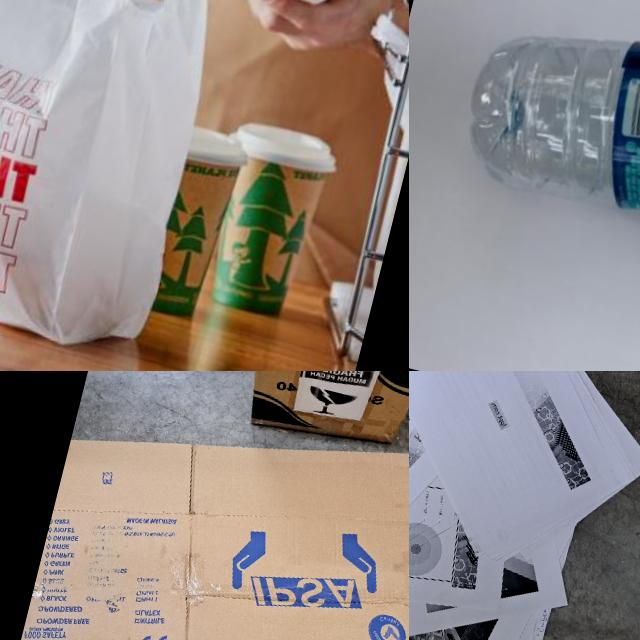garrafa plástica: (450, 0, 640, 280)
papel: (409, 371, 640, 640)
papelão: (0, 371, 409, 640), (226, 371, 409, 465)
sacola plástica: (0, 0, 263, 371)
